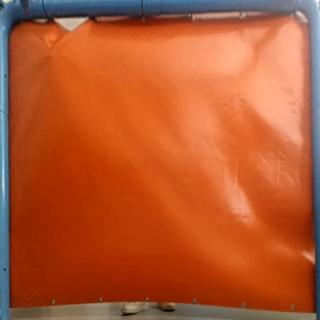Hit-hRxx: (40, 47, 58, 63)
